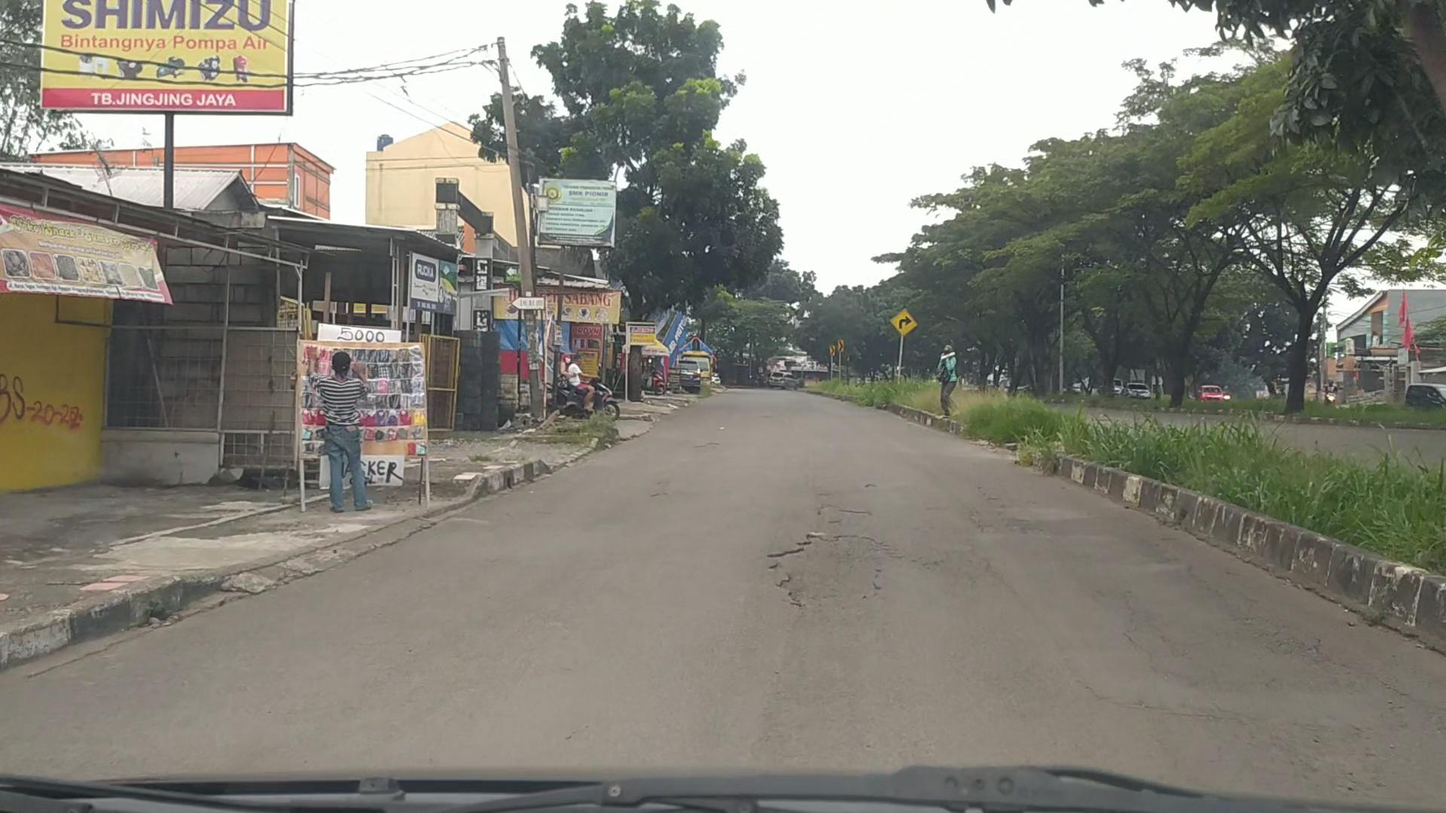pothole: (766, 533, 882, 612)
